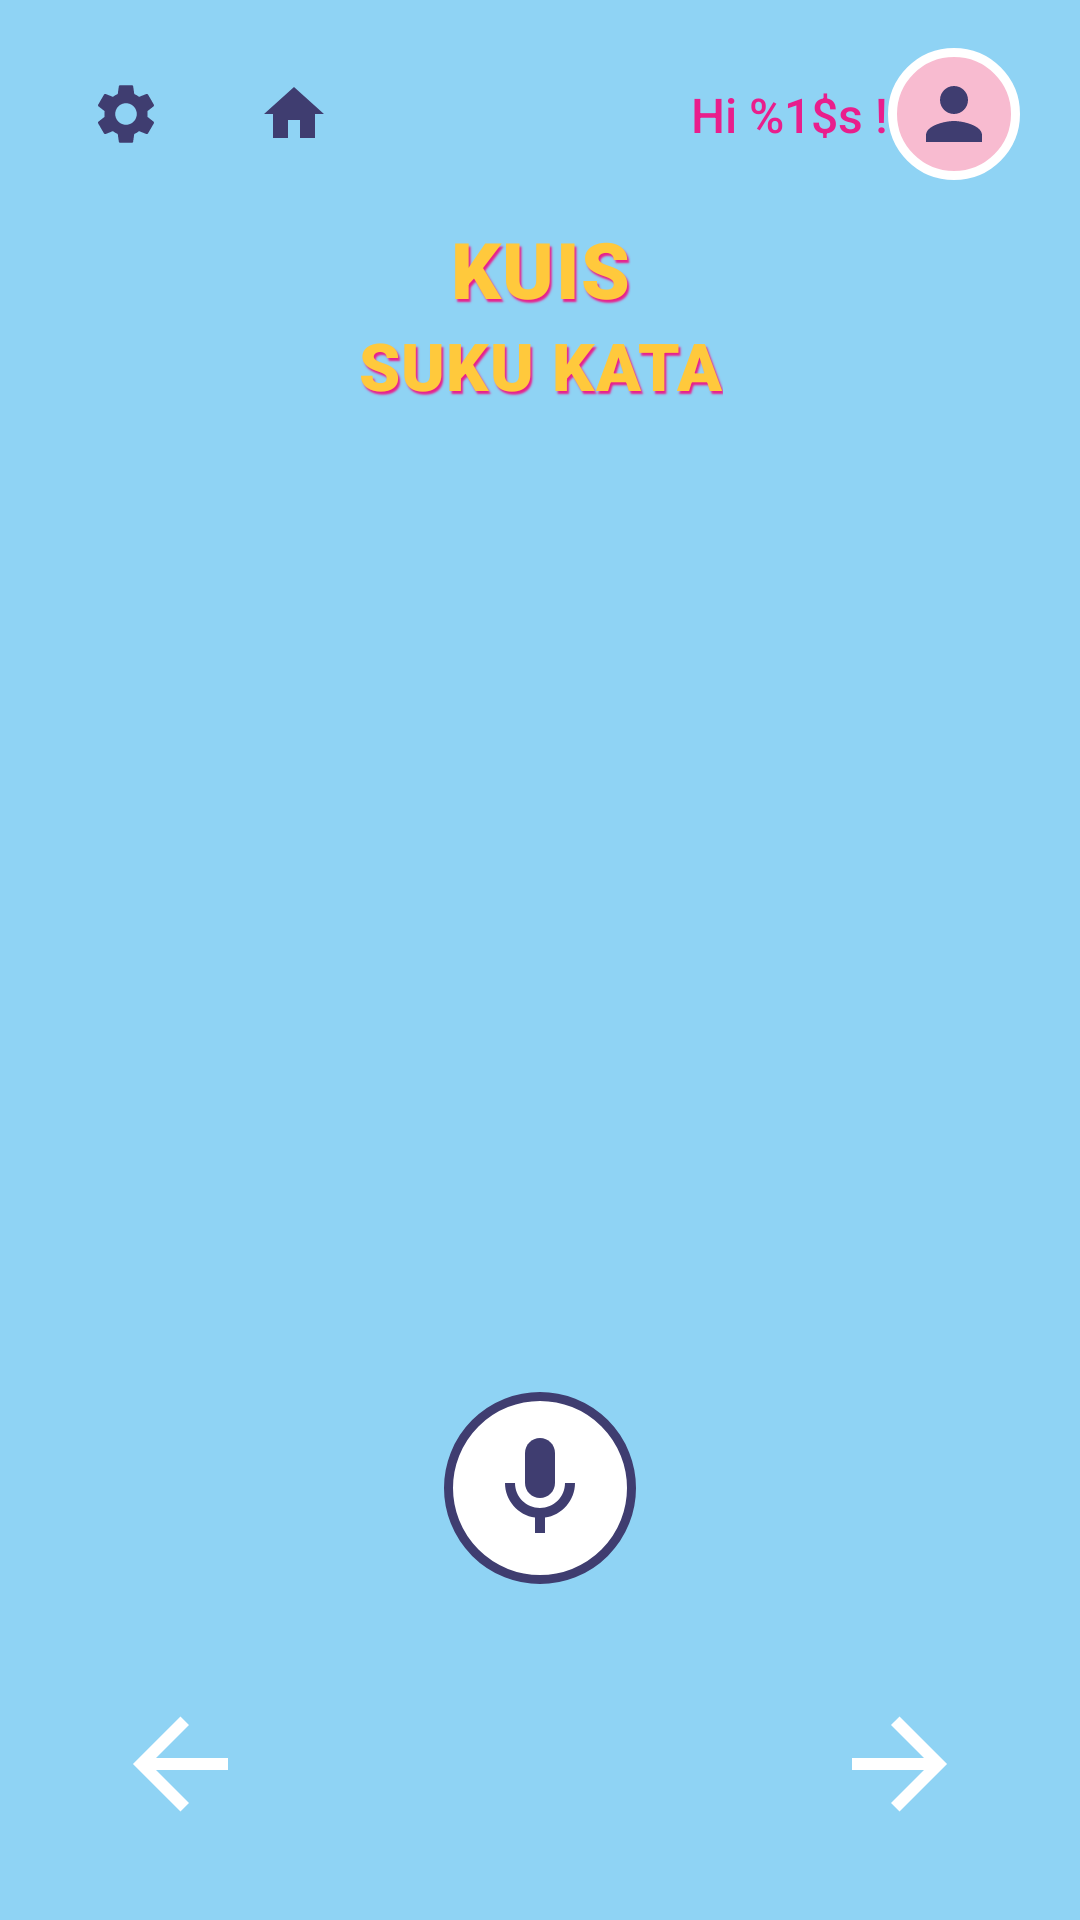

Icons on this 1080px×1920px Android screen, each with the point to tap as (x=x, y=y):
arrow back: (x=180, y=1764)
home: (x=294, y=112)
Pengaturan: (x=126, y=114)
person: (x=954, y=114)
Selanjutnya: (x=899, y=1764)
